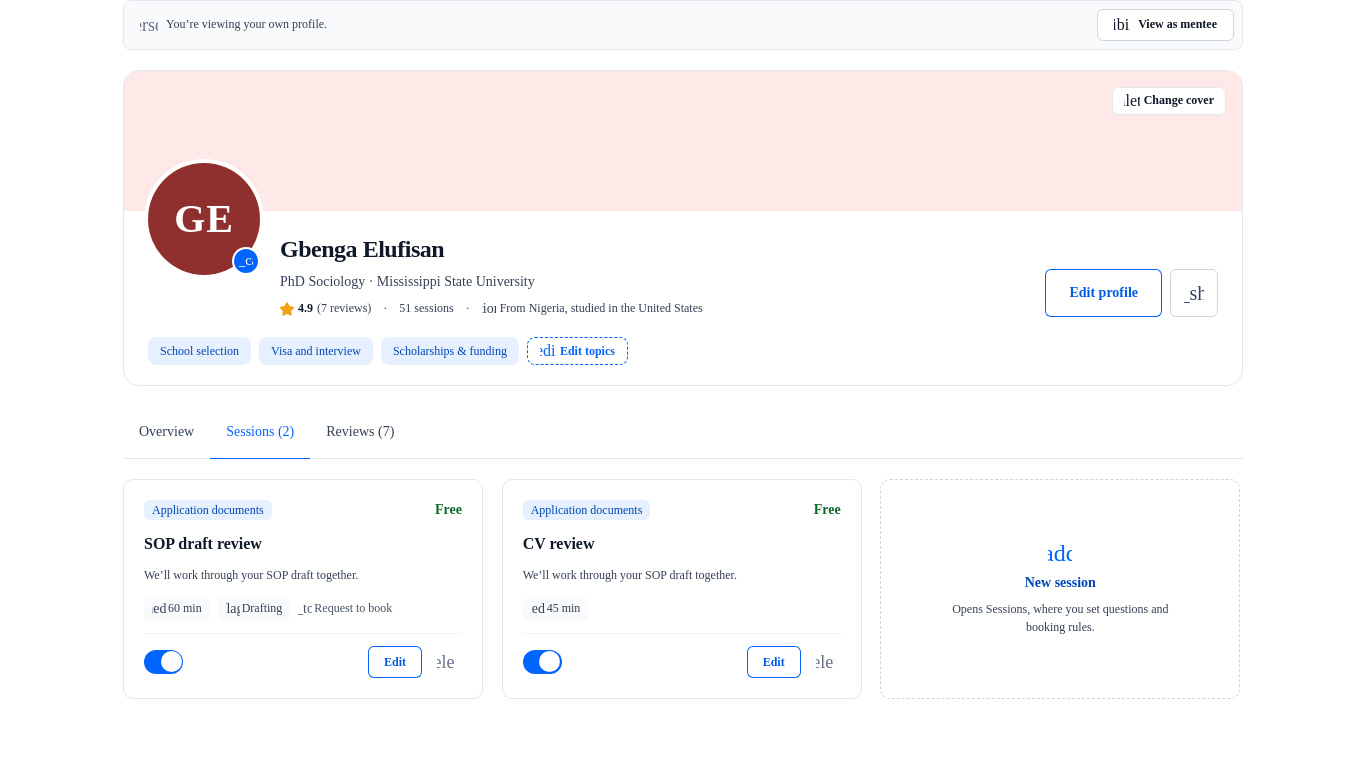
it: MentorProfileScreen — the owner’s session types (active only) › "Keep visible" after a quick edit still saves the length (review of PR 119)
Step 1. Click the button with aria-label "Edit SOP draft review" → coordinates (395, 662), box x1=368 y1=646 x2=422 y2=678
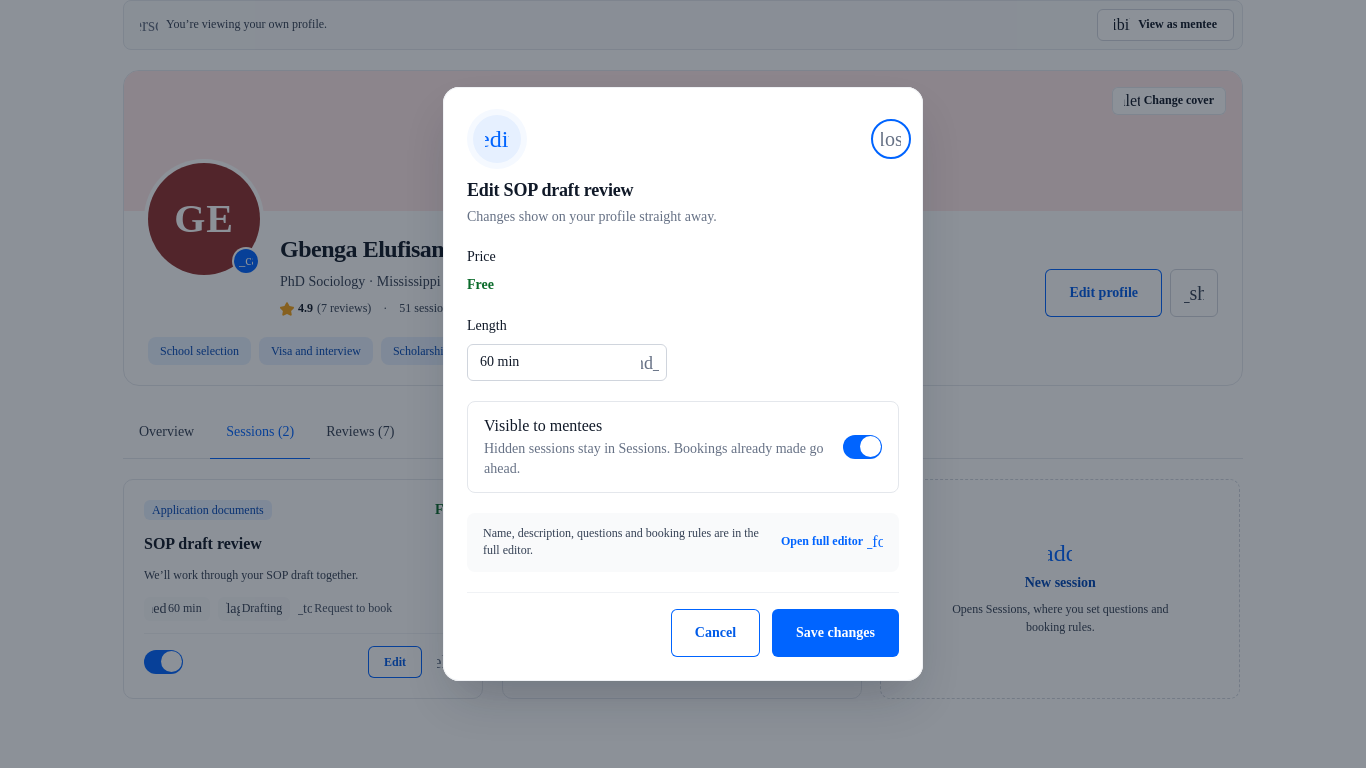
Step 2. Click the dropdown named "Length" → coordinates (567, 362), box x1=467 y1=344 x2=667 y2=381
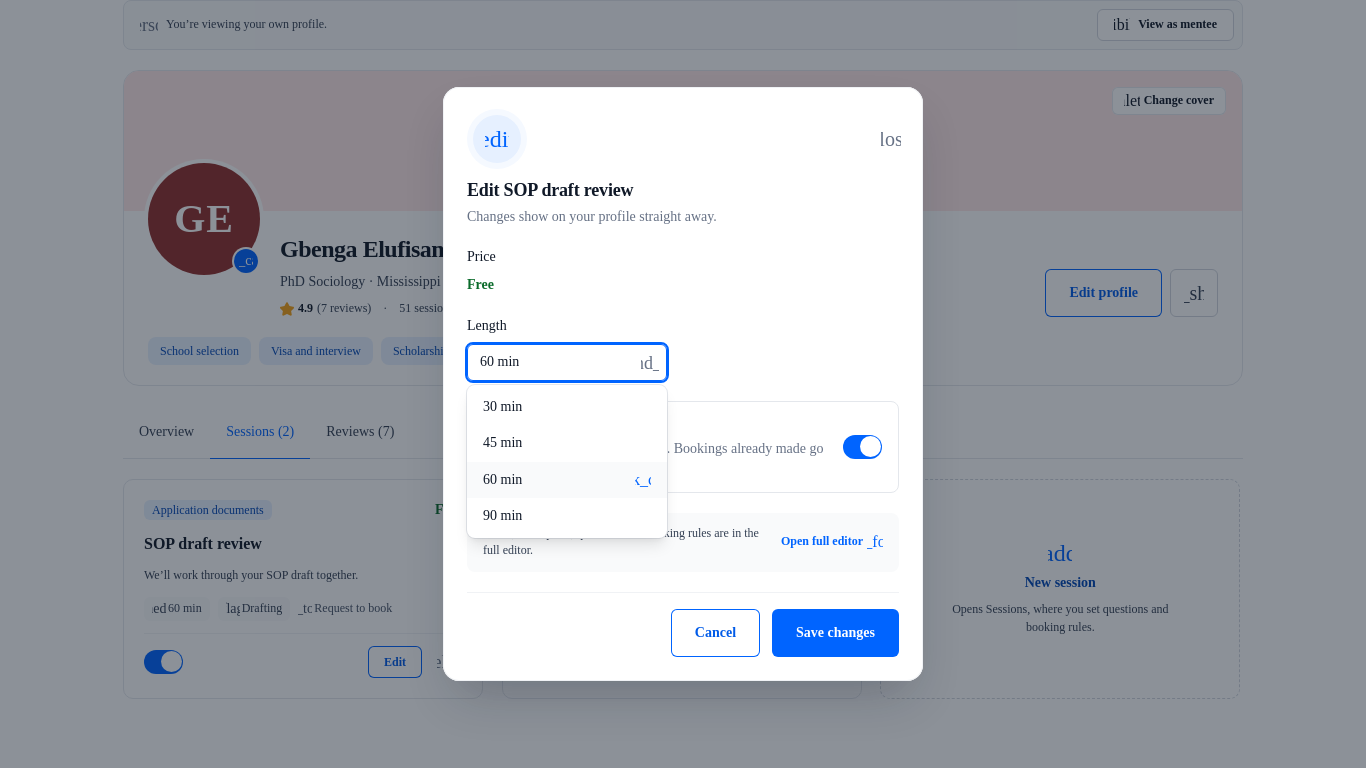
Step 3. Click the option "45 min" → coordinates (503, 443), box x1=483 y1=435 x2=522 y2=450
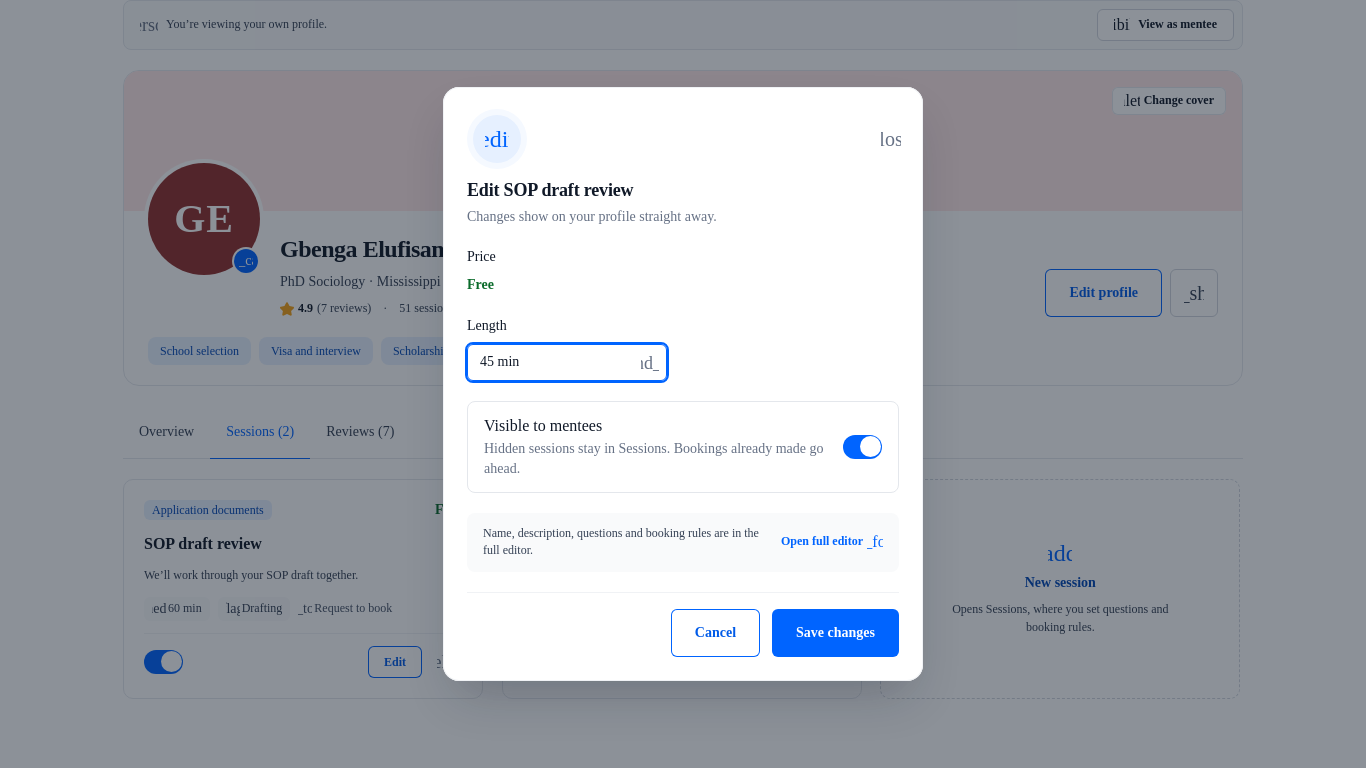
Step 4. Click the switch named "Visible to mentees" → coordinates (862, 447), box x1=843 y1=435 x2=882 y2=459
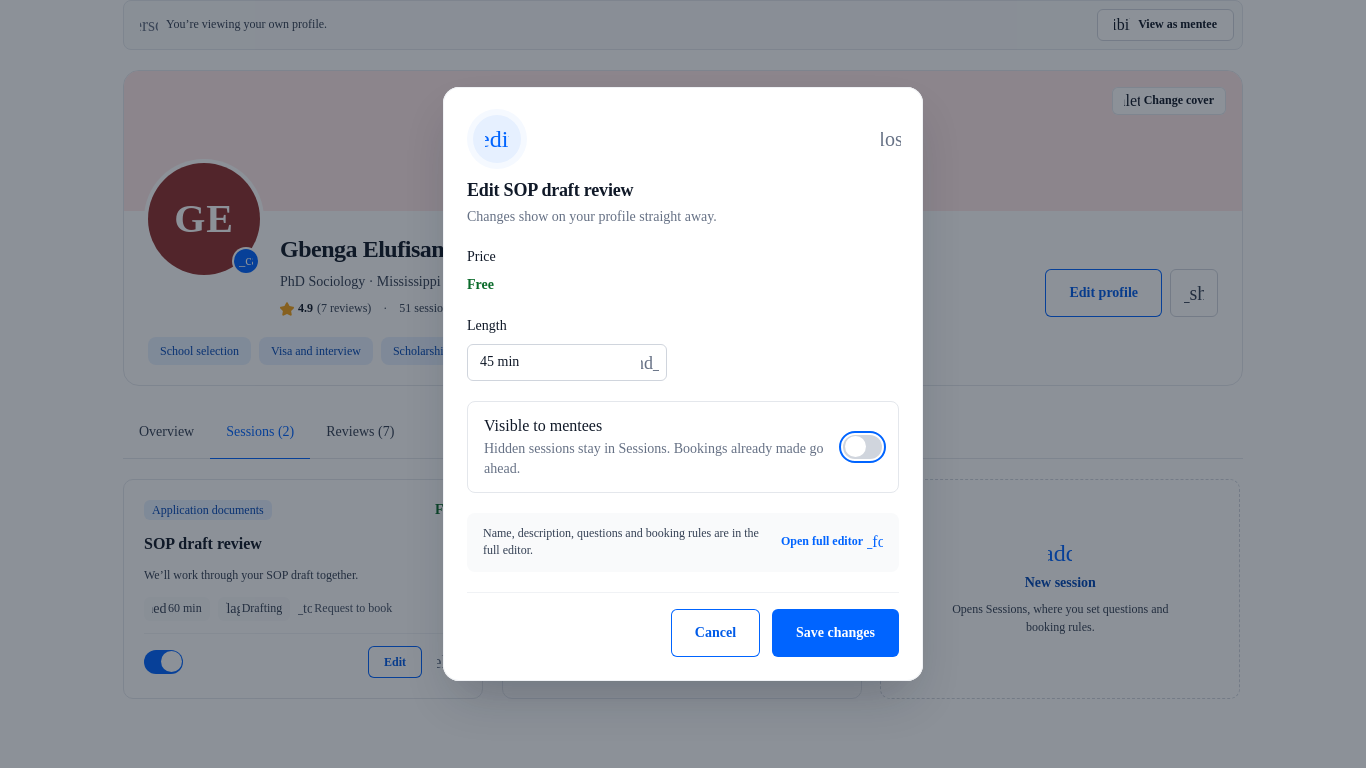
Step 5. Click the button "Save changes" → coordinates (836, 633), box x1=772 y1=609 x2=899 y2=657
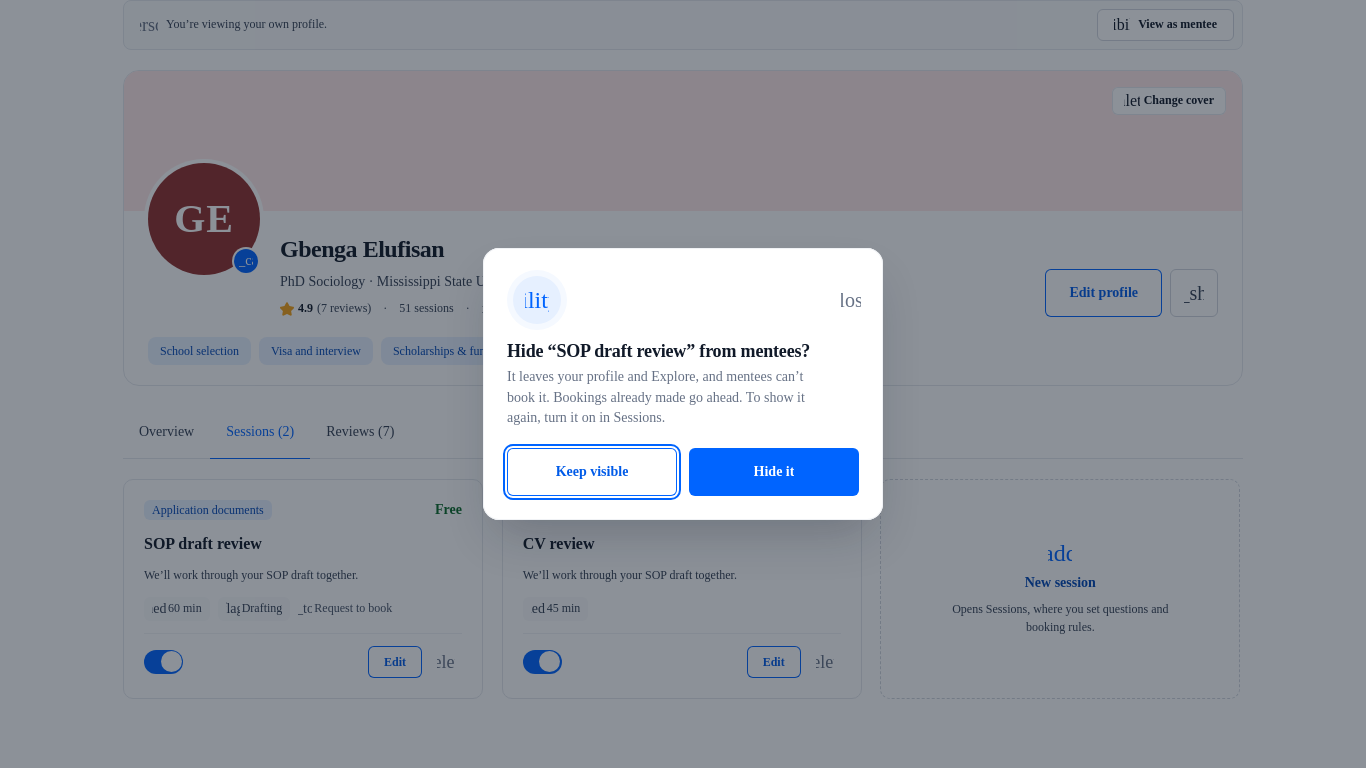
Step 6. Click the button "Keep visible" → coordinates (592, 472), box x1=507 y1=448 x2=677 y2=496
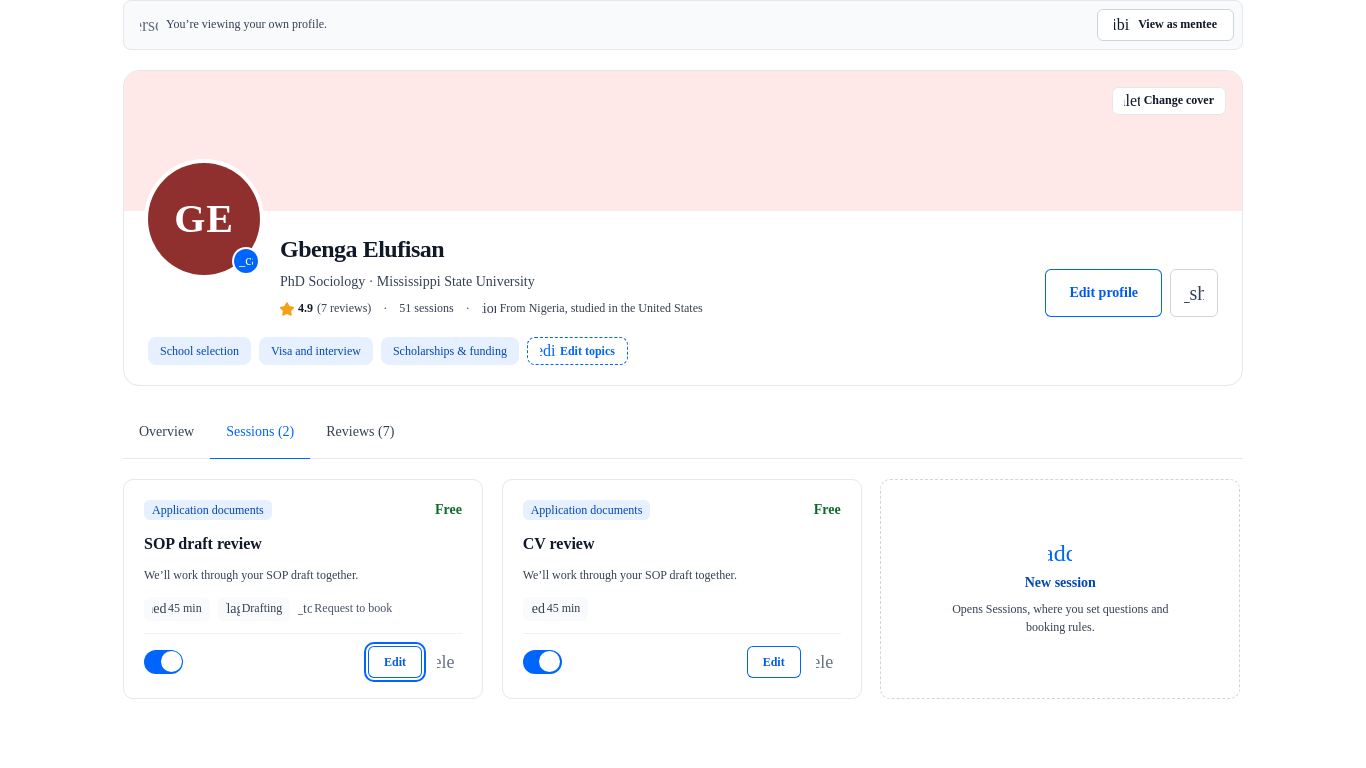
expect the text "45 min" next to "flag" is shown: met, box x1=144 y1=597 x2=210 y2=621
